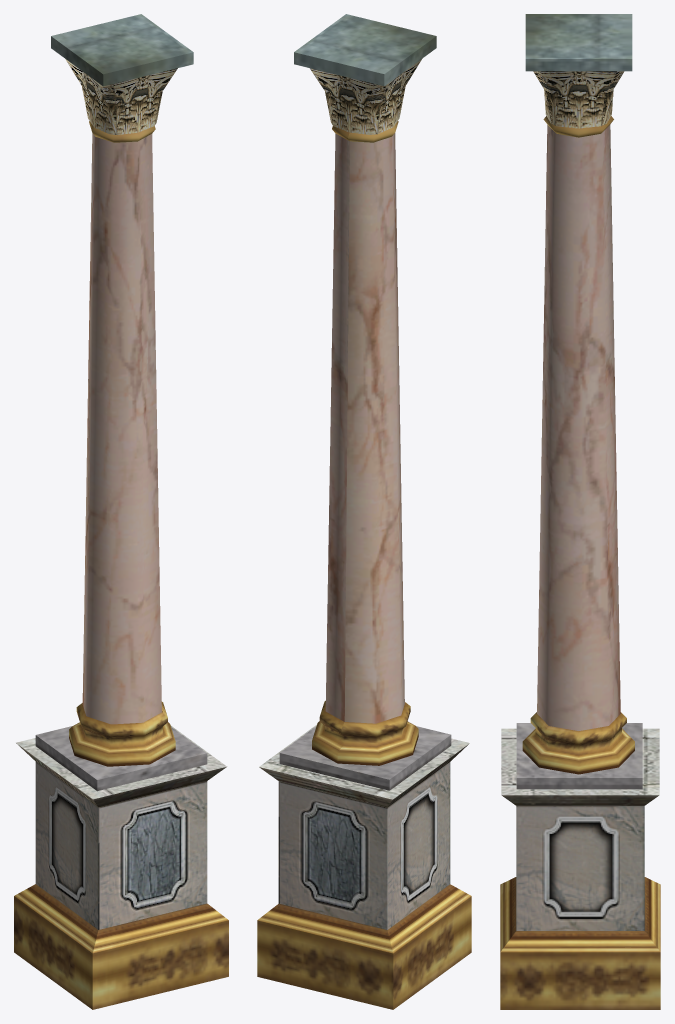
Rendered from column_roman_a.dae.
The picture shows the model from 3 angles, left to right: view 1: azimuth 30°, elevation 25°; view 2: azimuth 150°, elevation 25°; view 3: azimuth 270°, elevation 25°; orthographic projection. The views are drawn at different scales.
Parts seen in each view (by area): view 1: rostrum.001; view 2: rostrum.001; view 3: rostrum.001.
Boxes of the visible parts, x1,y1,x2,y2 form: rostrum.001: (14, 14, 228, 1009); rostrum.001: (257, 14, 471, 1009); rostrum.001: (500, 14, 660, 1009).
Bounding box in the file's own units: 2.41 × 2.41 × 15.59.
